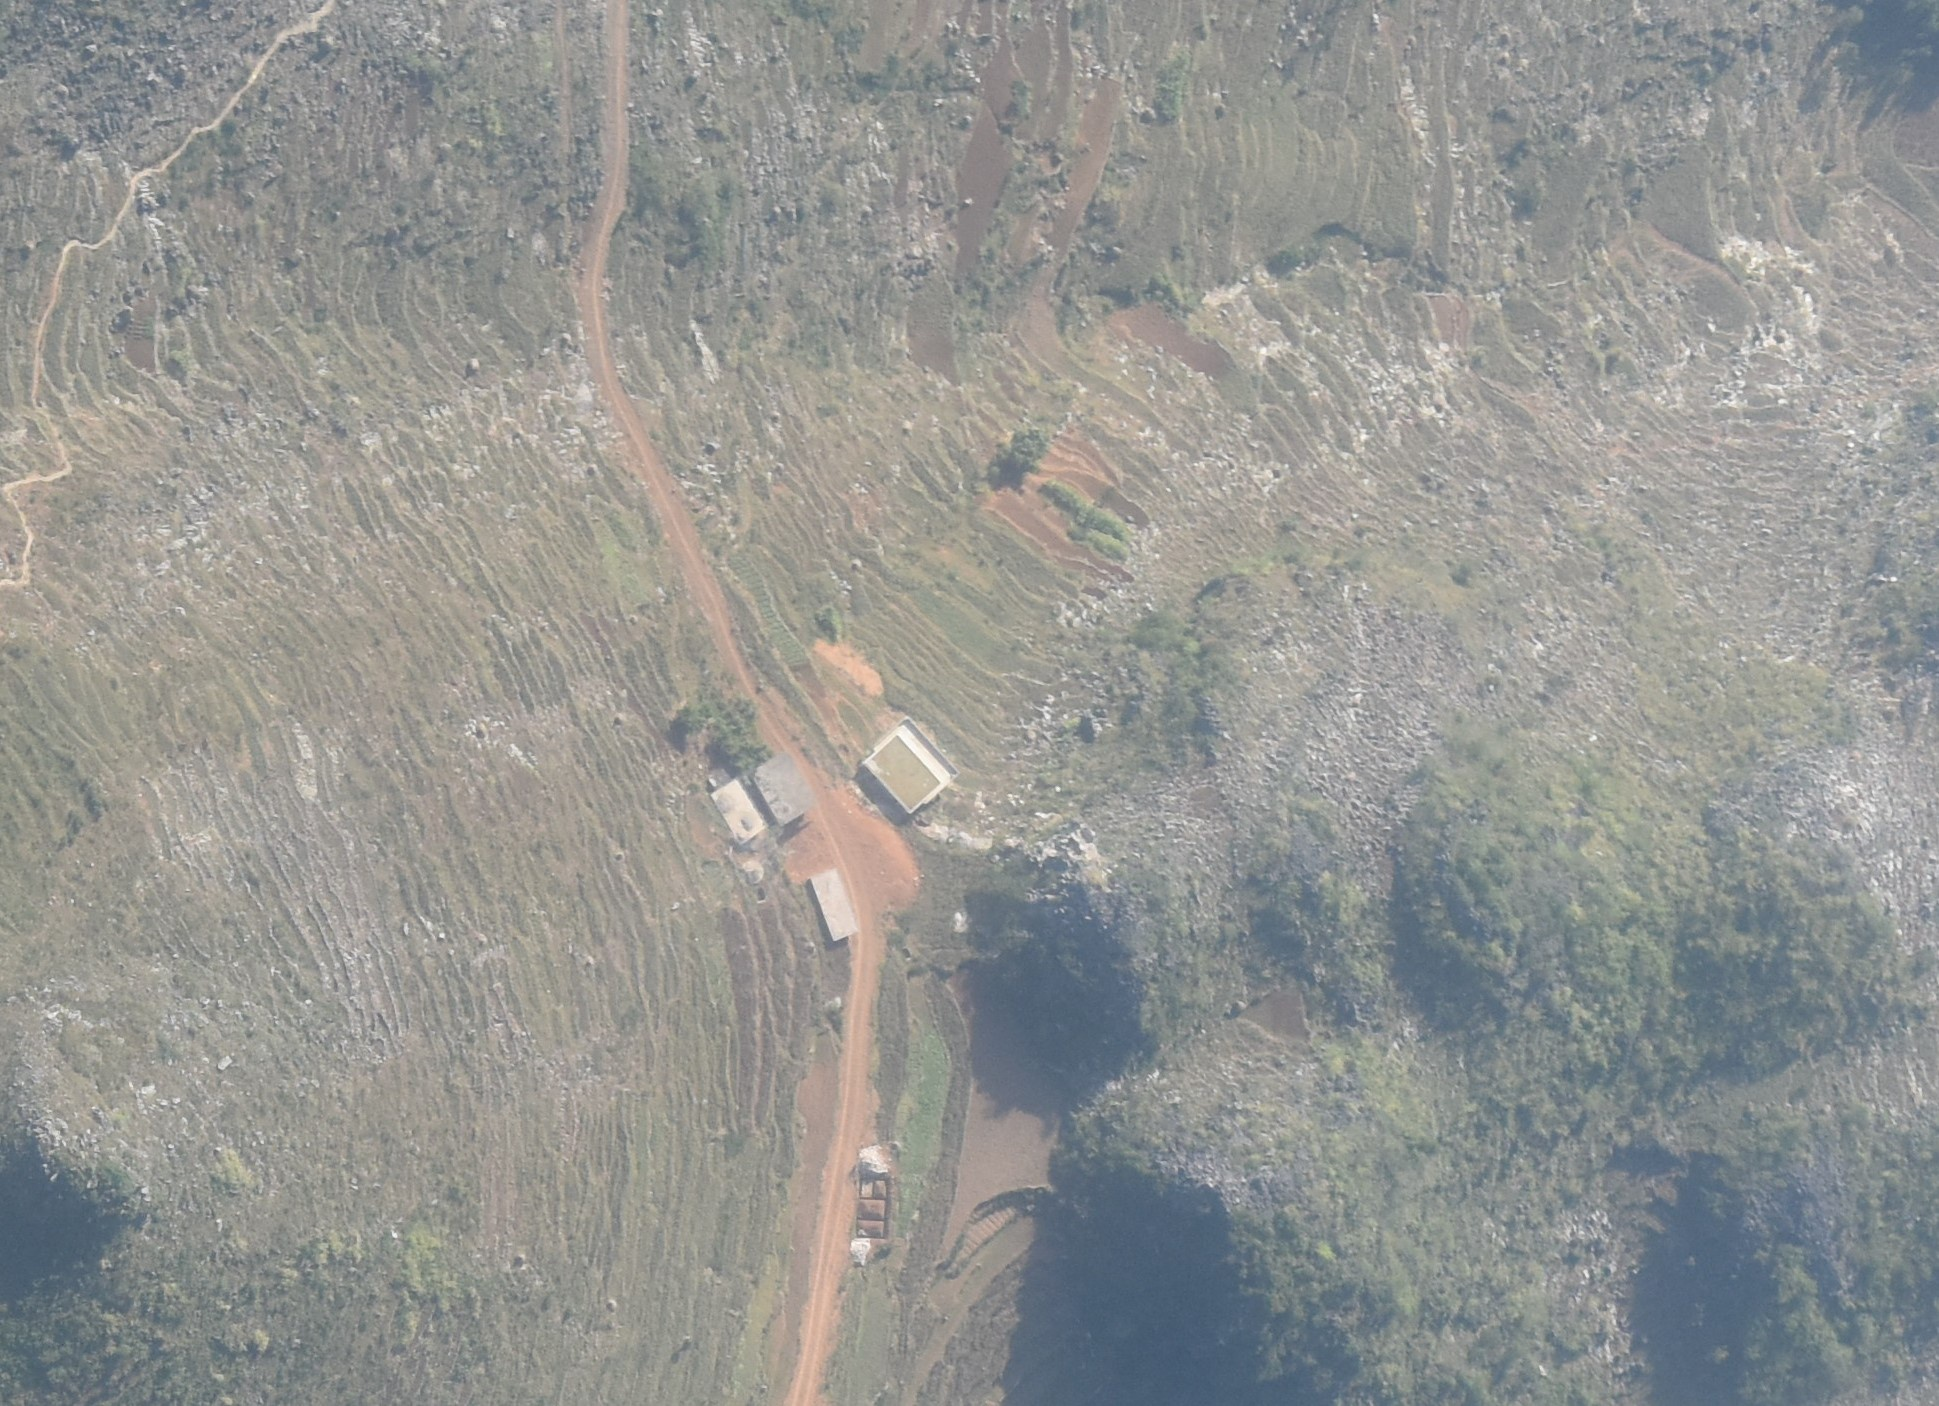building: (861, 717, 960, 811), (751, 750, 813, 823), (708, 778, 766, 845), (811, 869, 858, 942)
well: (739, 860, 763, 885)
